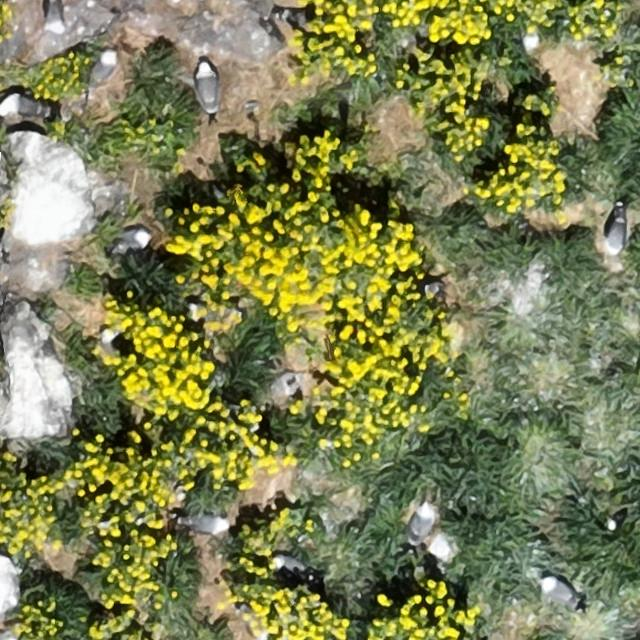umineko: (1, 90, 56, 120), (196, 64, 218, 111), (43, 0, 68, 38), (542, 578, 574, 606), (411, 505, 435, 541), (91, 51, 115, 84), (115, 228, 149, 250), (607, 215, 625, 254), (189, 515, 228, 533), (274, 557, 304, 575)
